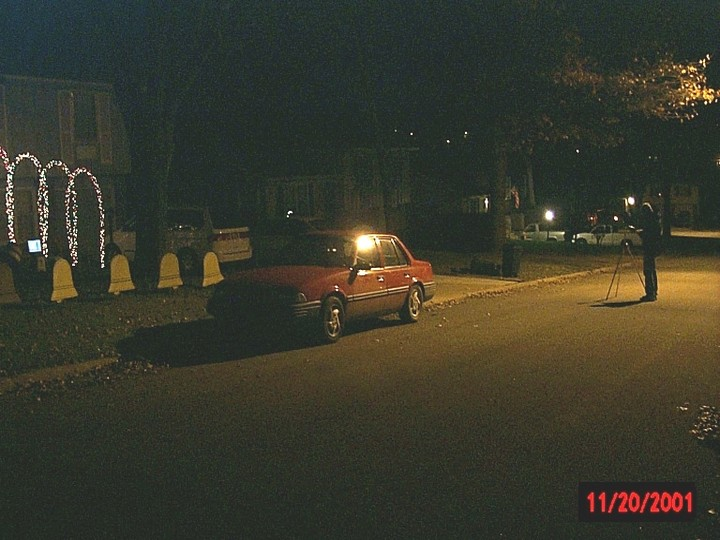car: (204, 224, 441, 345)
